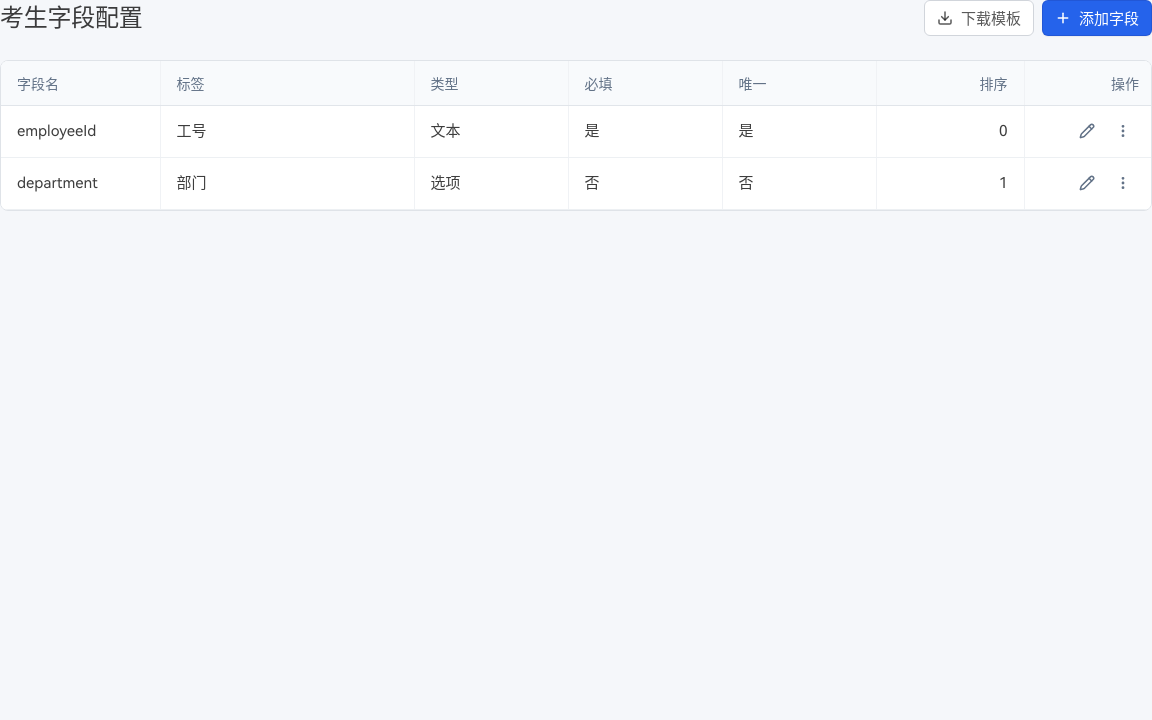
Test: CandidateFieldsPage › clears dialog mutation error when closing
The width and height of the screenshot is (1152, 720).
Click the button "添加字段" at coordinates (1097, 18), box [1042,0,1151,36]
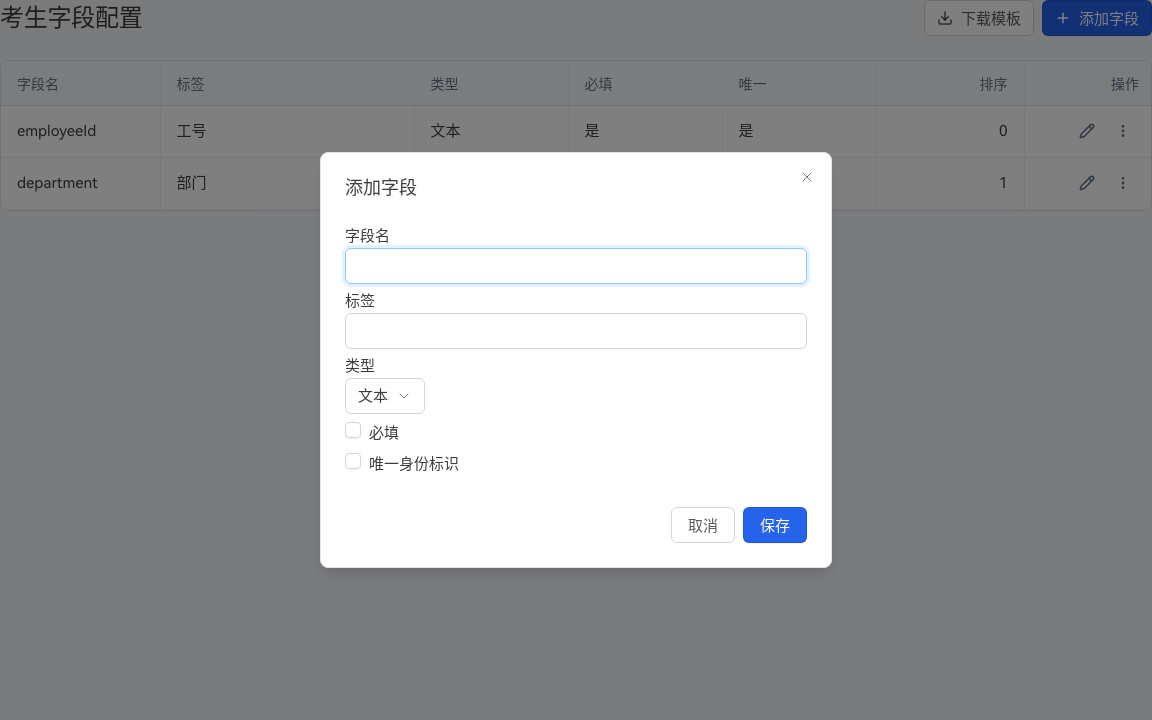
Type "phone" into the 1st field at coordinates (576, 266), box [345,248,807,284]
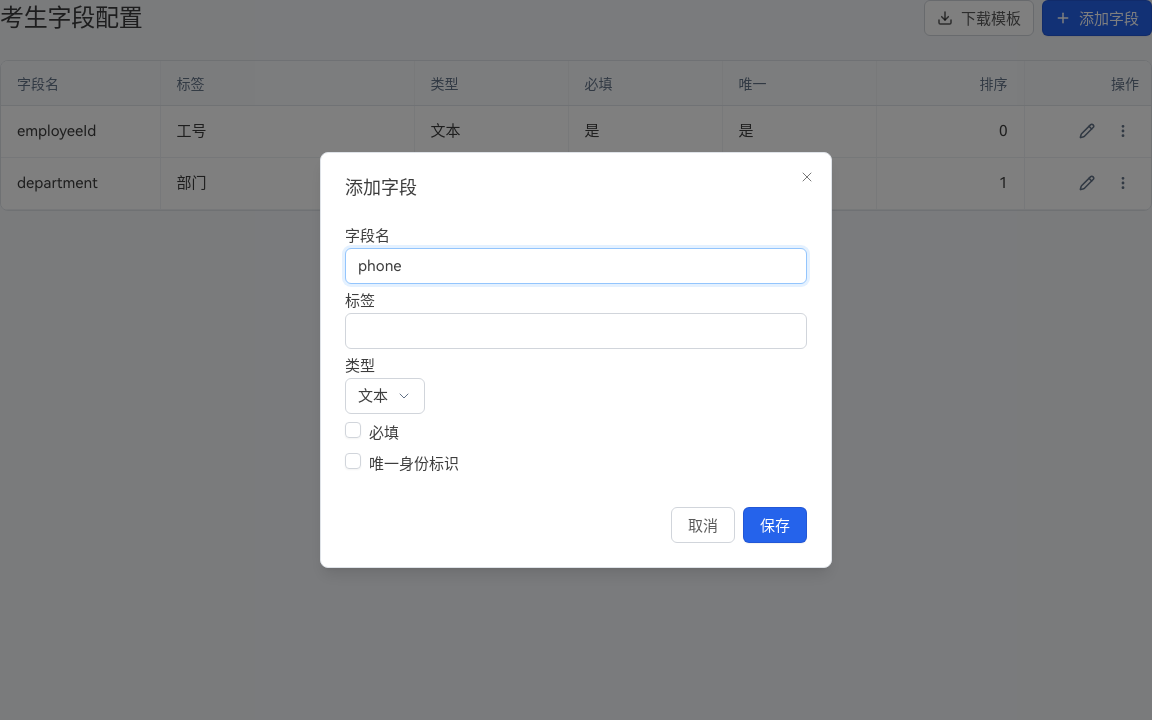
Type "手机号" into the 2nd field at coordinates (576, 331), box [345,313,807,349]
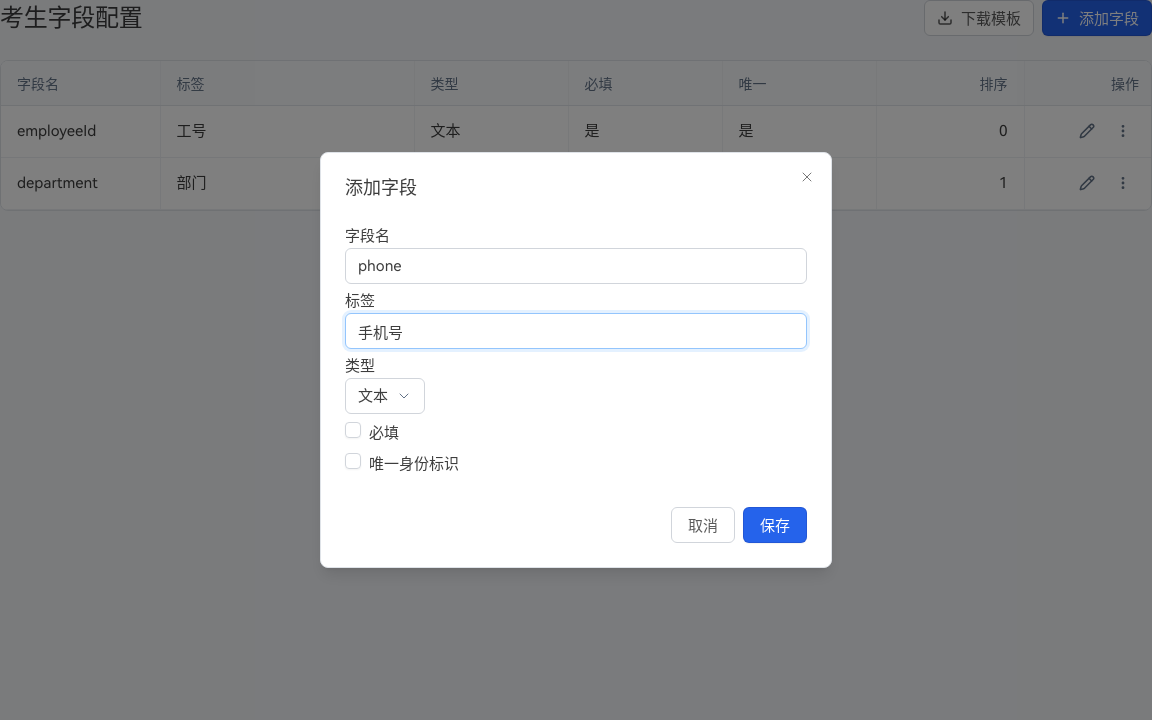
Click the button "保存" at coordinates (775, 525), box [743,507,807,543]
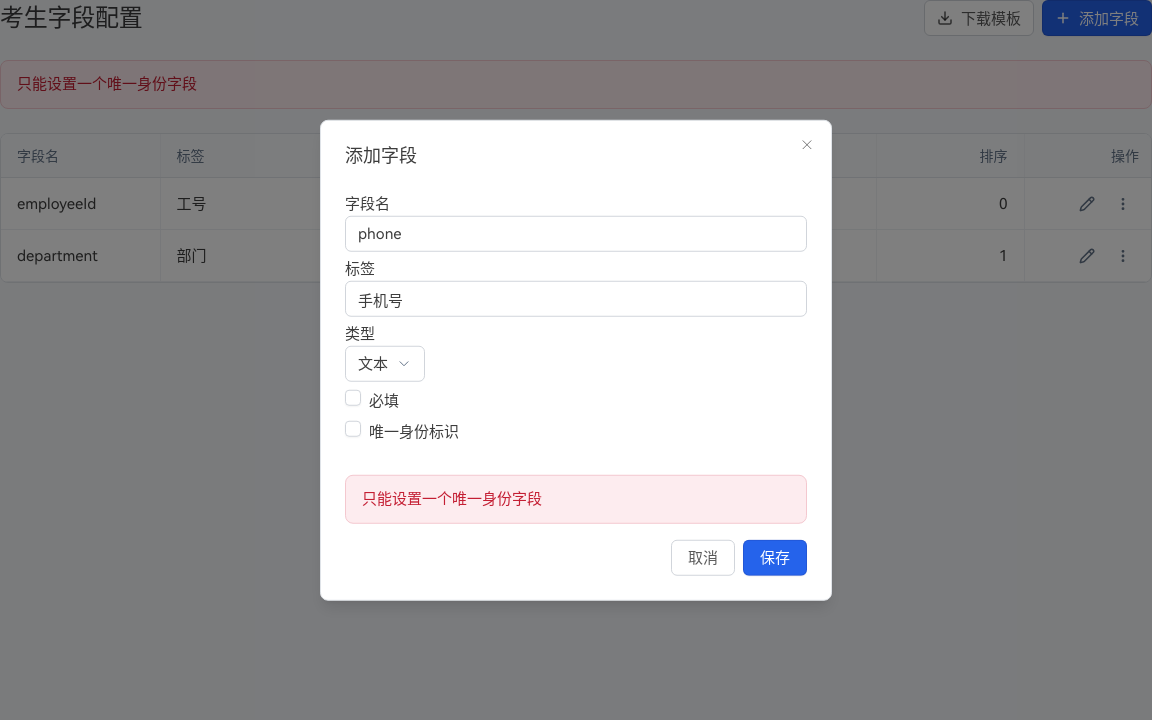
Check: the text "只能设置一个唯一身份字段" is shown, box [345,475,807,523]
Click the button "取消" at coordinates (703, 557), box [671,539,735,575]
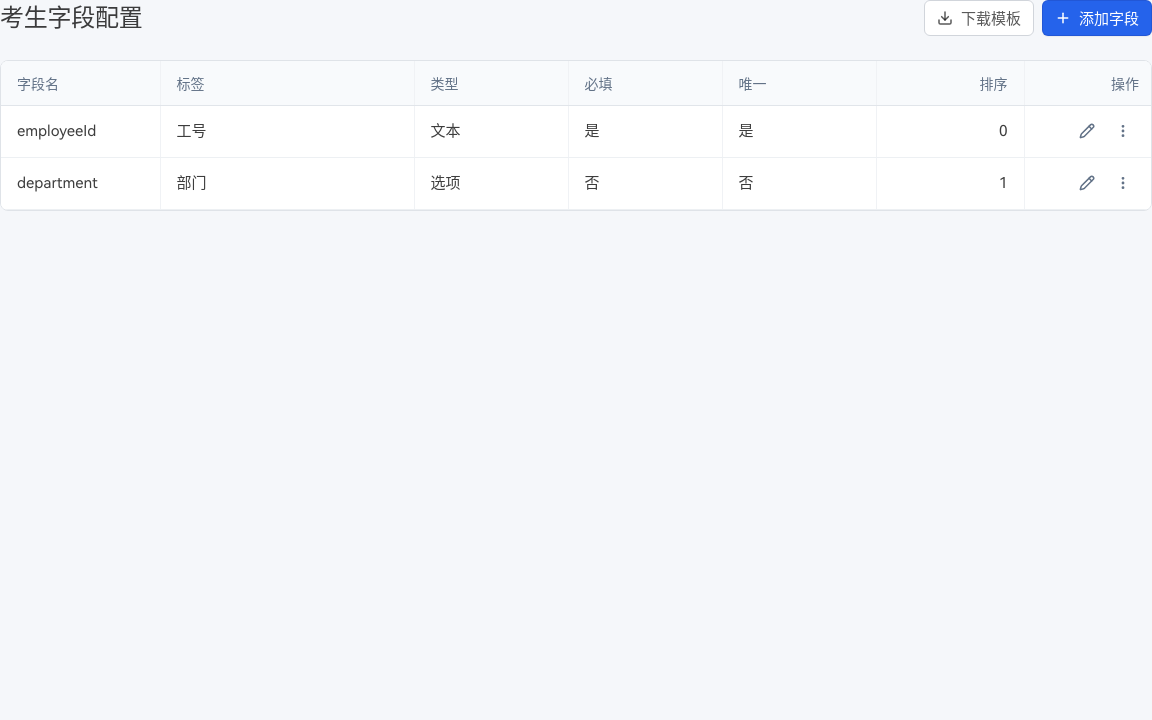
Check: the dialog is gone
Check: the text "只能设置一个唯一身份字段" is gone
